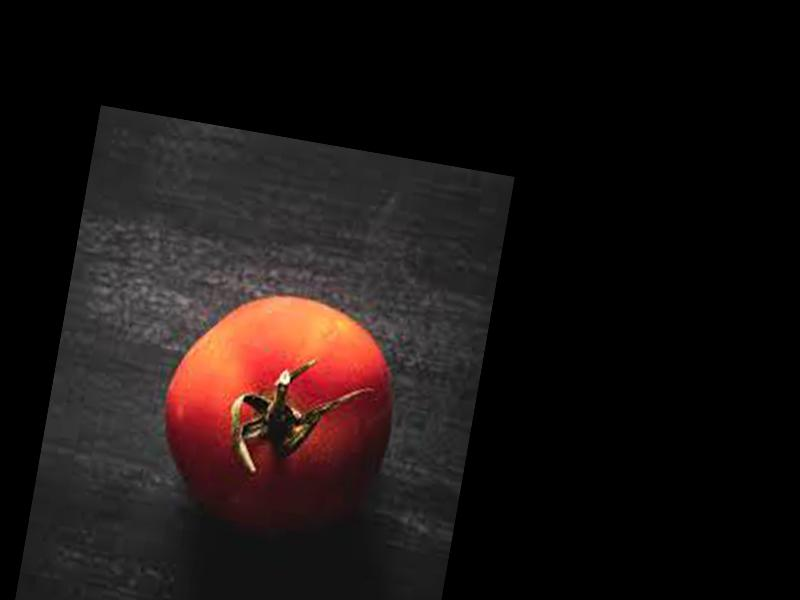Tomato: (147, 276, 407, 546)
